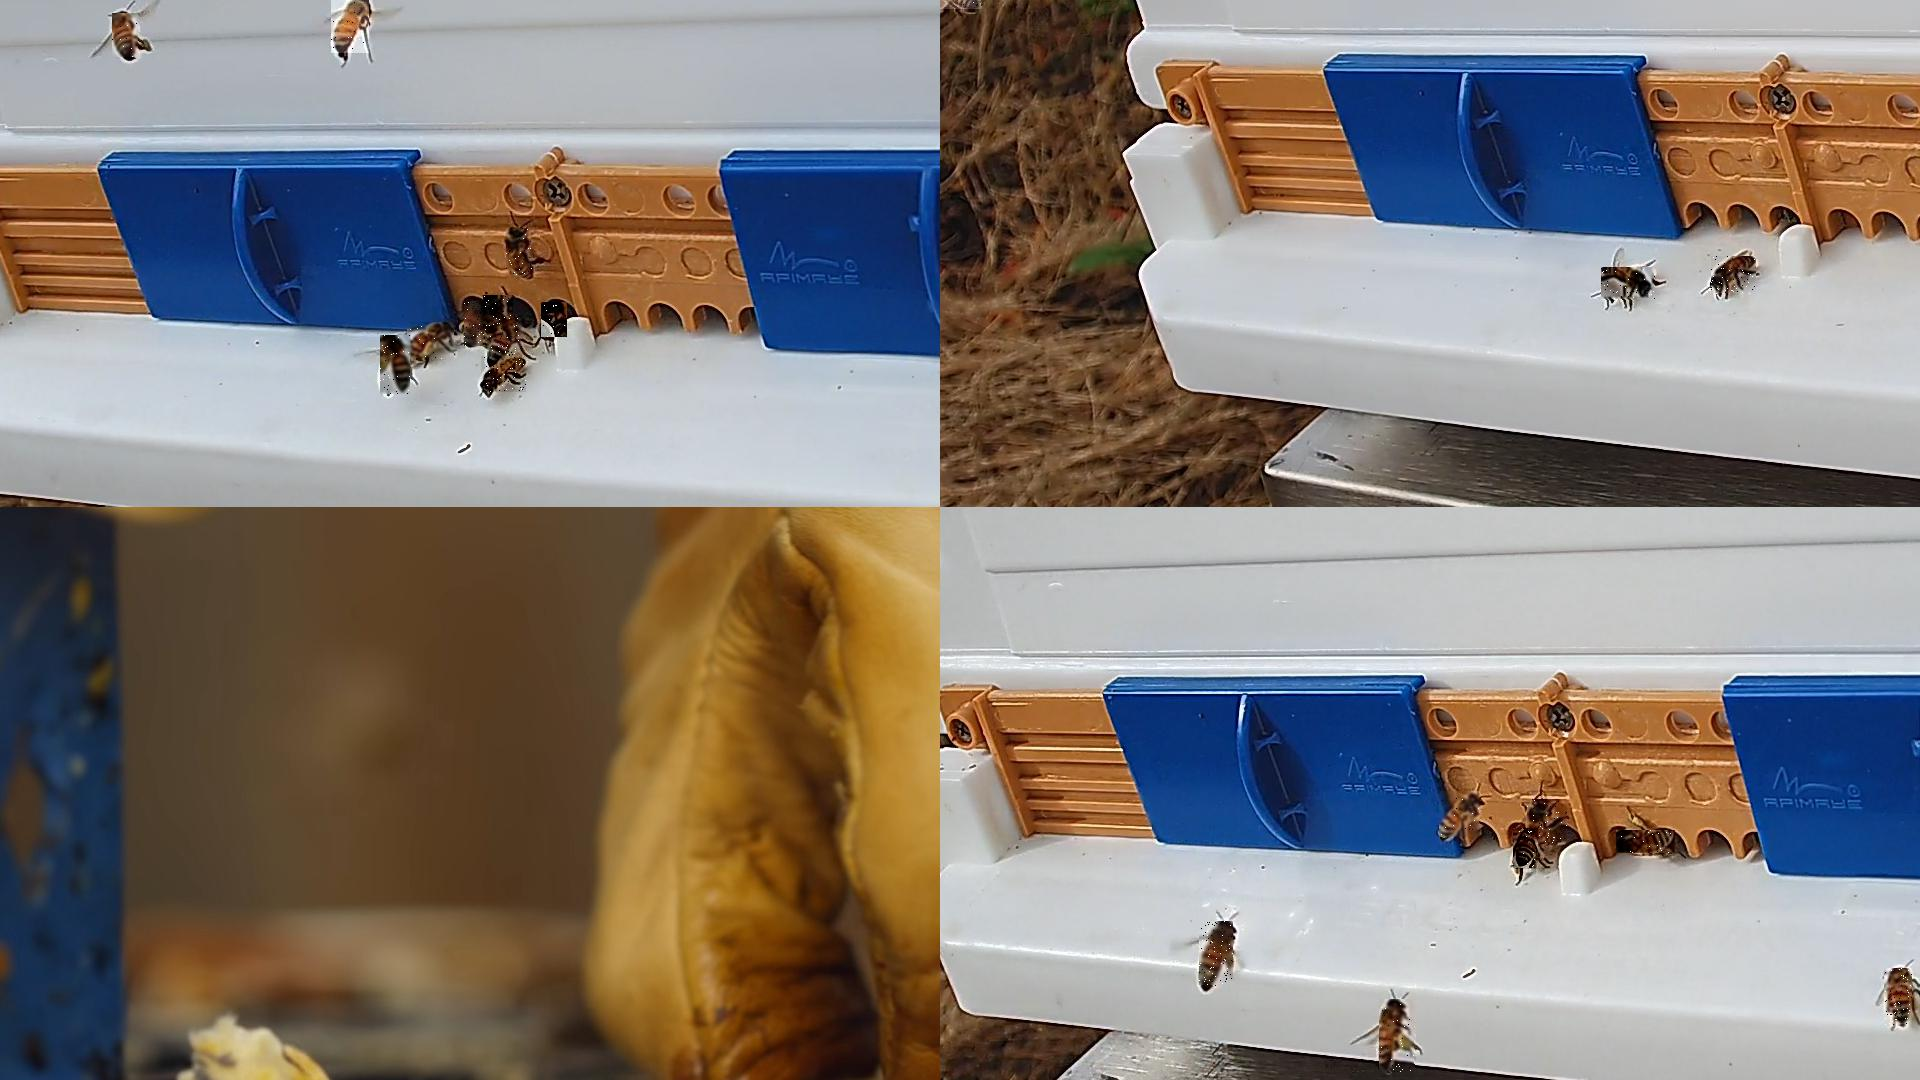bee: (331, 0, 371, 57), (1439, 791, 1480, 838), (380, 336, 411, 397), (1602, 268, 1657, 302), (1527, 799, 1568, 844), (1711, 257, 1757, 296), (481, 356, 527, 393), (1884, 969, 1913, 1027), (487, 317, 522, 365), (484, 296, 517, 340), (1616, 830, 1676, 854), (506, 228, 533, 279), (113, 14, 141, 60), (1513, 829, 1539, 873), (541, 302, 568, 338), (465, 301, 486, 347), (940, 0, 983, 13)
pollenbee: (1380, 1000, 1417, 1074), (1199, 922, 1234, 988), (407, 323, 455, 361)
